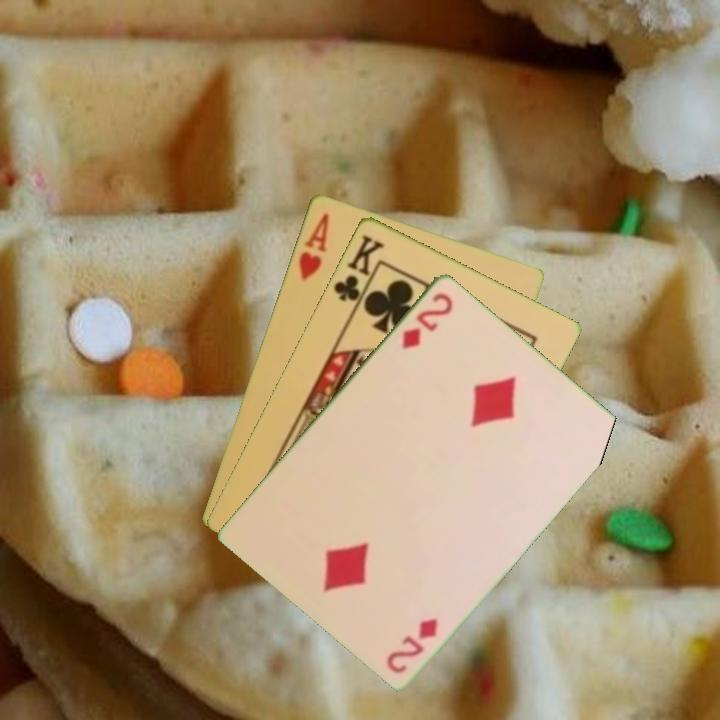2d: (398, 288, 456, 351), (383, 613, 441, 676)
Ah: (295, 209, 332, 283)
Kc: (329, 230, 387, 313)
